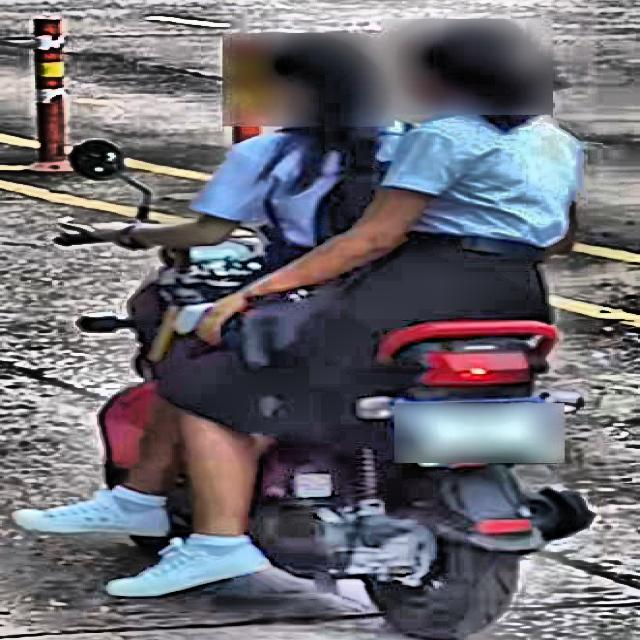motorcycle: (41, 141, 598, 634)
